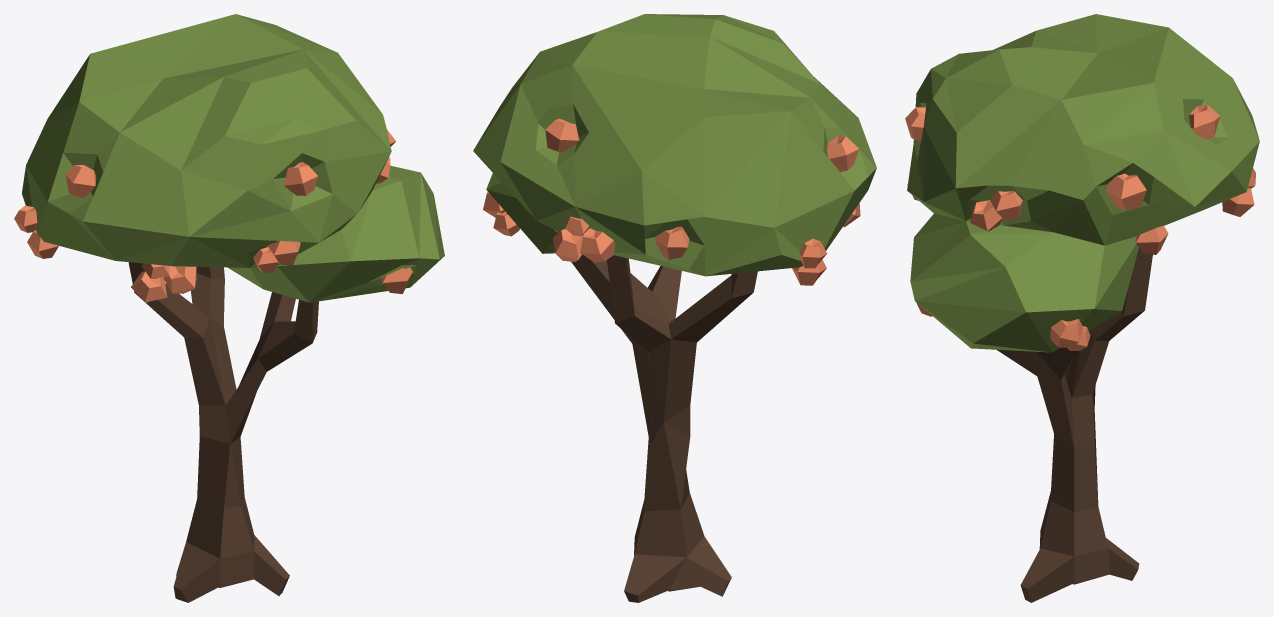
The model's file is peach_tree.glb.
The picture shows the model from 3 angles, left to right: view 1: azimuth 30°, elevation 25°; view 2: azimuth 150°, elevation 25°; view 3: azimuth 270°, elevation 25°; orthographic projection. The views are drawn at different scales.
Parts seen in each view (by area): view 1: SM_Env_Tree_Peach_Grown_01; view 2: SM_Env_Tree_Peach_Grown_01; view 3: SM_Env_Tree_Peach_Grown_01.
Boxes of the visible parts, bbox=[...] form: SM_Env_Tree_Peach_Grown_01: bbox=[14, 14, 444, 602]; SM_Env_Tree_Peach_Grown_01: bbox=[473, 14, 876, 602]; SM_Env_Tree_Peach_Grown_01: bbox=[905, 14, 1259, 602].
Size of the model in its own units: 3.24 by 4.51 by 2.73.
1 material, 1 textured.
